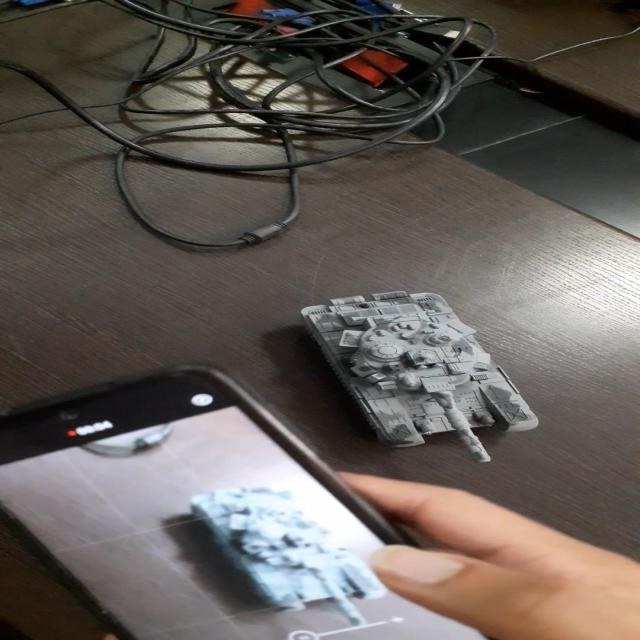tank: (300, 291, 544, 464)
